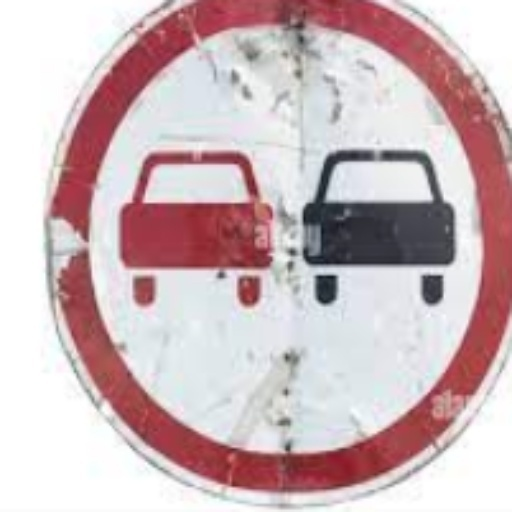No overtake: (49, 8, 494, 473)
